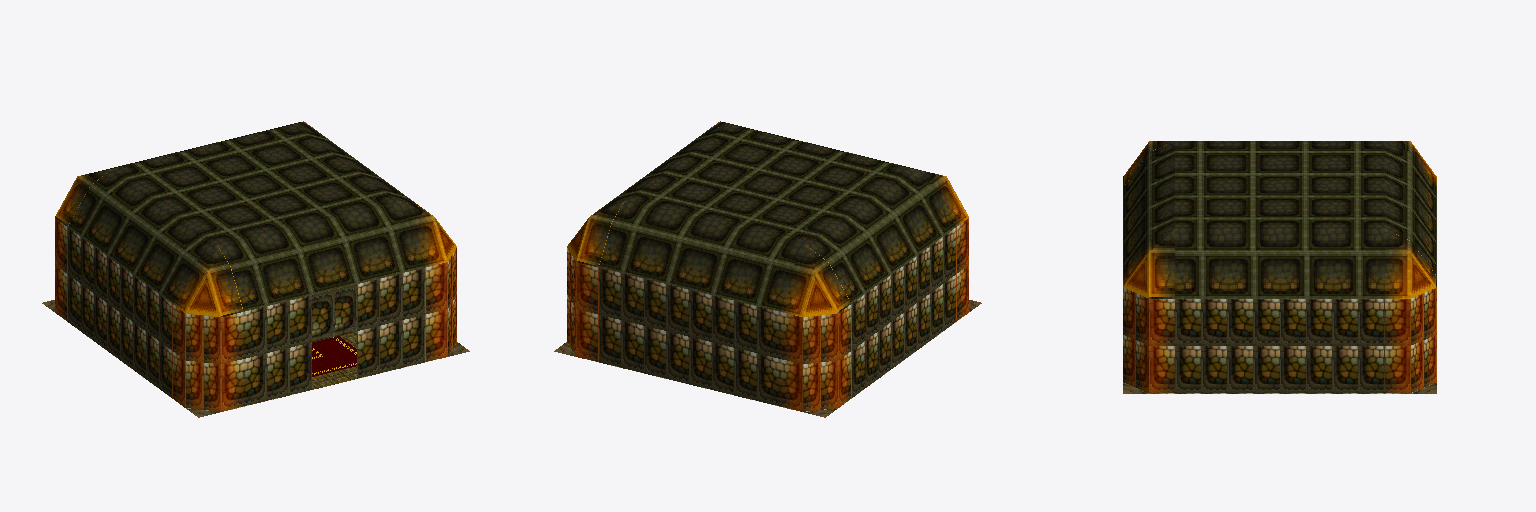
3 views of the same model, side by side, from view 1: azimuth 30°, elevation 25°; view 2: azimuth 150°, elevation 25°; view 3: azimuth 270°, elevation 25° (orthographic).
Visible parts, largest first — view 1: OrganRoom_Collection_Ceiling#NoCollision, OrganRoom_Collection_Window#NoCollision#MirrorX#MirrorY, OrganRoom_Collection_CeilingShaded#NoCollision, OrganRoom_Collection_WindowRed#NoCollision#MirrorX#MirrorY, OrganRoom_Collection_CeilingRed#NoCollision, OrganRoom_Collection_WindowDoor#NoCollision#MirrorX, OrganRoom_Collection_OrganCarpet#NoCollision, OrganRoom_Collection_Floortile#SFX_2#MirrorX#MirrorY; view 2: OrganRoom_Collection_Ceiling#NoCollision, OrganRoom_Collection_Window#NoCollision#MirrorX#MirrorY, OrganRoom_Collection_CeilingShaded#NoCollision, OrganRoom_Collection_WindowRed#NoCollision#MirrorX#MirrorY, OrganRoom_Collection_CeilingRed#NoCollision; view 3: OrganRoom_Collection_Ceiling#NoCollision, OrganRoom_Collection_Window#NoCollision#MirrorX#MirrorY, OrganRoom_Collection_CeilingShaded#NoCollision, OrganRoom_Collection_WindowRed#NoCollision#MirrorX#MirrorY, OrganRoom_Collection_CeilingRed#NoCollision.
Part boxes in pixels (x1,y1,x2,y2): OrganRoom_Collection_Ceiling#NoCollision: (91,124,419,266); OrganRoom_Collection_Window#NoCollision#MirrorX#MirrorY: (68,228,424,406); OrganRoom_Collection_CeilingShaded#NoCollision: (68,186,424,311); OrganRoom_Collection_WindowRed#NoCollision#MirrorX#MirrorY: (55,218,456,411); OrganRoom_Collection_CeilingRed#NoCollision: (55,121,456,316); OrganRoom_Collection_WindowDoor#NoCollision#MirrorX: (312,284,356,342); OrganRoom_Collection_OrganCarpet#NoCollision: (312,336,356,376); OrganRoom_Collection_Floortile#SFX_2#MirrorX#MirrorY: (312,332,356,389); OrganRoom_Collection_Ceiling#NoCollision: (604,124,932,266); OrganRoom_Collection_Window#NoCollision#MirrorX#MirrorY: (599,228,955,406); OrganRoom_Collection_CeilingShaded#NoCollision: (599,186,955,311); OrganRoom_Collection_WindowRed#NoCollision#MirrorX#MirrorY: (567,218,968,411); OrganRoom_Collection_CeilingRed#NoCollision: (567,121,968,316); OrganRoom_Collection_Ceiling#NoCollision: (1149,141,1410,251); OrganRoom_Collection_Window#NoCollision#MirrorX#MirrorY: (1175,299,1384,393); OrganRoom_Collection_CeilingShaded#NoCollision: (1123,153,1436,298); OrganRoom_Collection_WindowRed#NoCollision#MirrorX#MirrorY: (1123,288,1436,393); OrganRoom_Collection_CeilingRed#NoCollision: (1123,141,1436,298).
Size of the model in its own units: 96 by 48 by 96.
Materials: 19 (19 with a texture image).